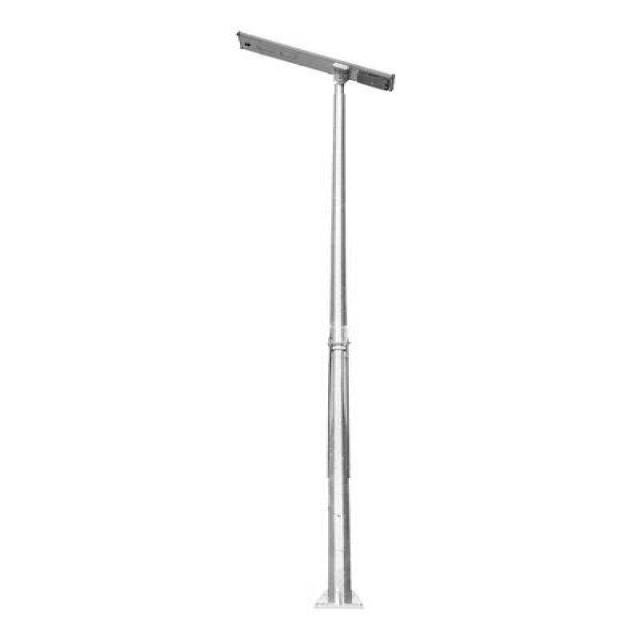Pole: (239, 32, 395, 607)
